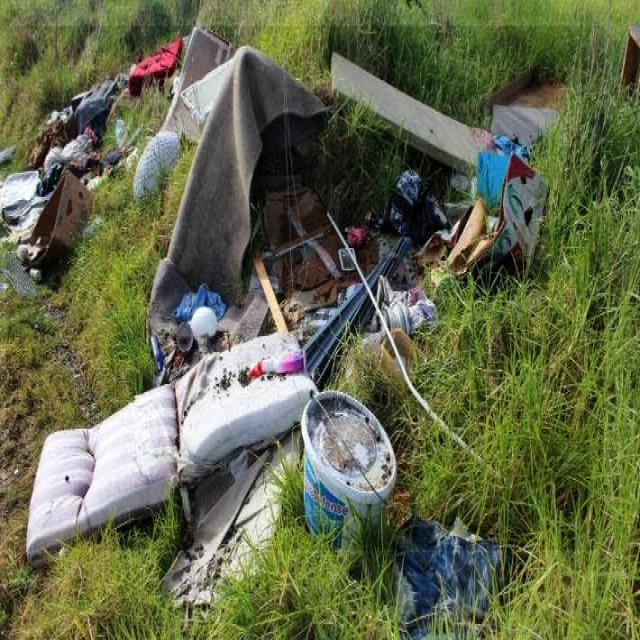dumping: (6, 26, 604, 550)
